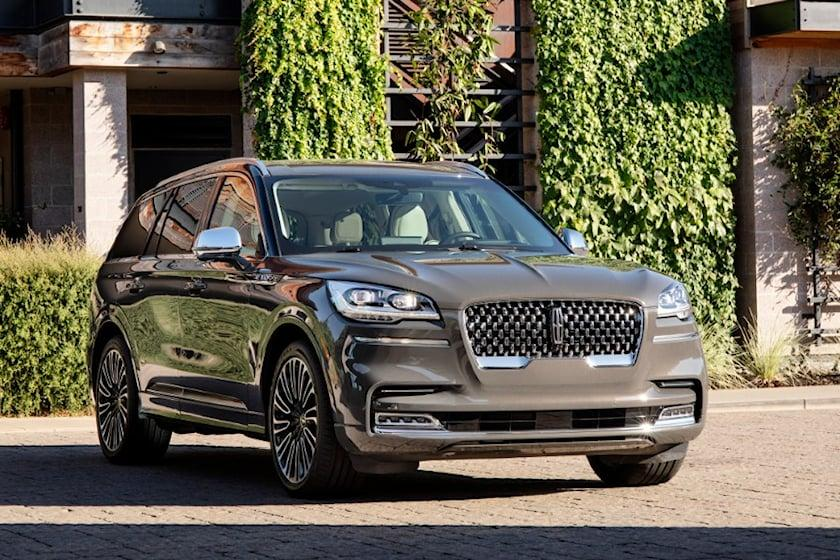lincoln: (547, 302, 571, 351)
